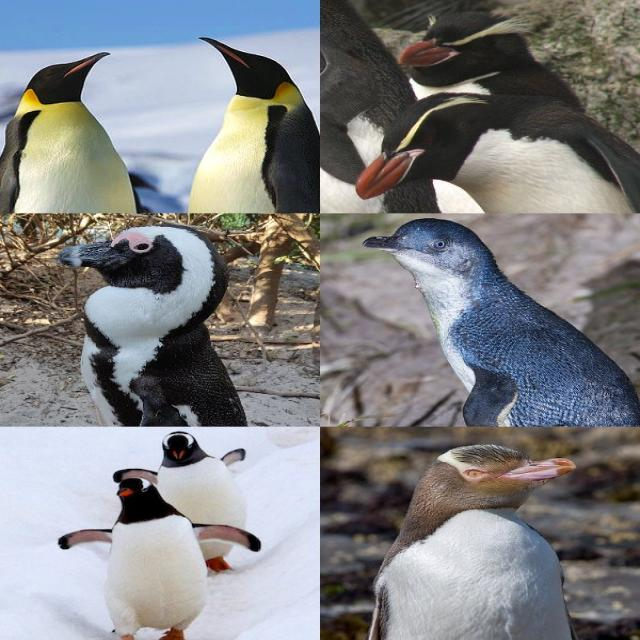penguin: (363, 218, 639, 426), (369, 444, 574, 639), (60, 225, 246, 426), (350, 93, 639, 212), (58, 478, 259, 639), (188, 38, 319, 214), (0, 52, 137, 214), (398, 12, 580, 109), (157, 431, 244, 531)
